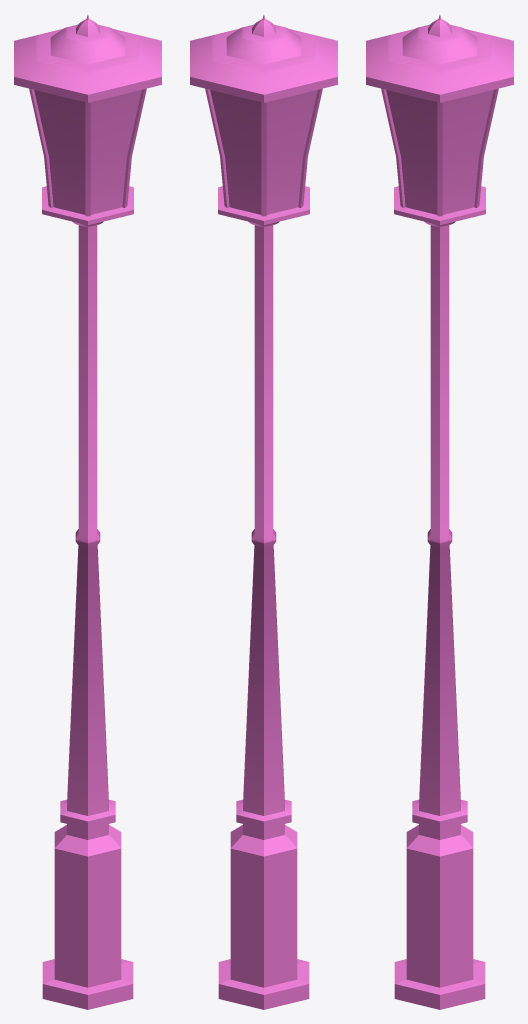
The model's file is Street_Lamp.fbx.
The picture shows the model from 3 angles, left to right: view 1: azimuth 30°, elevation 25°; view 2: azimuth 150°, elevation 25°; view 3: azimuth 270°, elevation 25°; orthographic projection.
Visible parts, largest first — view 1: Cylinder009; view 2: Cylinder009; view 3: Cylinder009.
Boxes of the visible parts, bbox=[...] form: Cylinder009: bbox=[14, 15, 161, 1009]; Cylinder009: bbox=[190, 15, 337, 1009]; Cylinder009: bbox=[366, 15, 513, 1009].
Size of the model in its own units: 494 by 3108 by 427.
